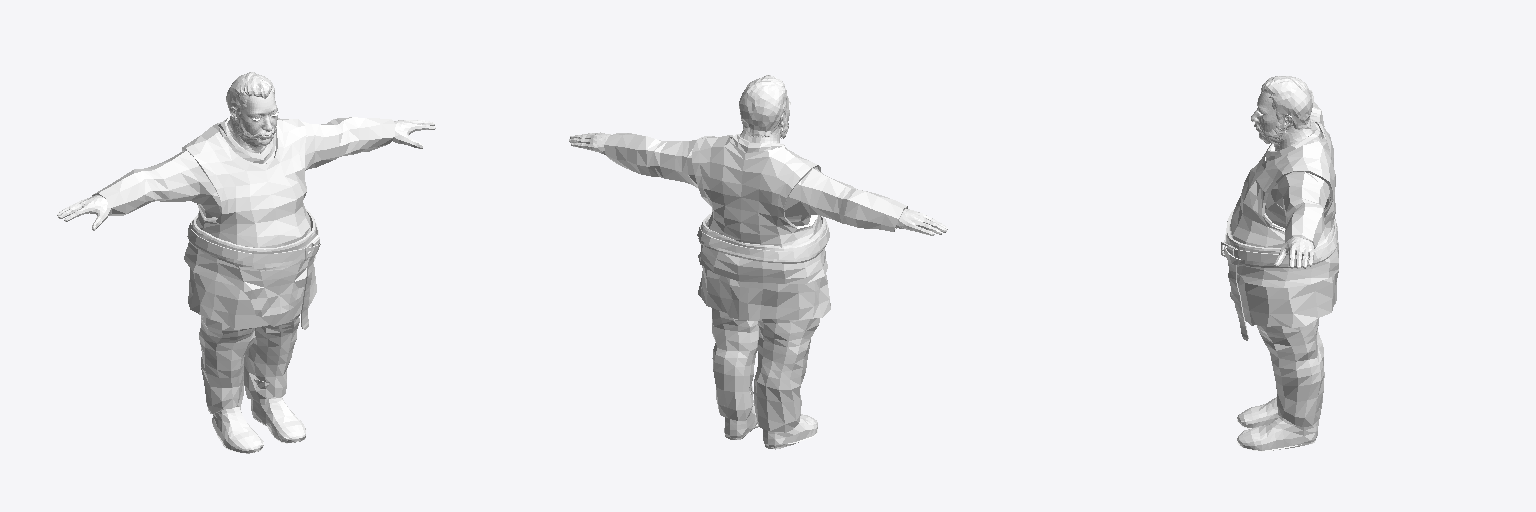
File: dwarf.obj
The picture shows the model from 3 angles: view 1: azimuth 30°, elevation 25°; view 2: azimuth 150°, elevation 25°; view 3: azimuth 270°, elevation 25°; orthographic projection.
Visible parts, largest first — view 1: Tops, Bottoms, Shoes, Body, Hair; view 2: Tops, Bottoms, Hair, Body, Shoes; view 3: Tops, Bottoms, Shoes, Body, Hair.
Part boxes in pixels (x1,y1,x2,y2): Tops: (92,117,395,329); Bottoms: (199,314,299,413); Shoes: (212,379,305,453); Body: (57,90,435,230); Hair: (226,72,274,119); Tops: (604,133,907,320); Bottoms: (712,308,819,432); Hair: (739,75,786,137); Body: (569,96,947,235); Shoes: (724,386,817,449); Tops: (1221,99,1338,340); Bottoms: (1257,318,1324,426); Shoes: (1236,397,1319,451); Body: (1251,90,1313,268); Hair: (1261,76,1312,129).
Size of the model in its own units: 168 by 152 by 46.01.